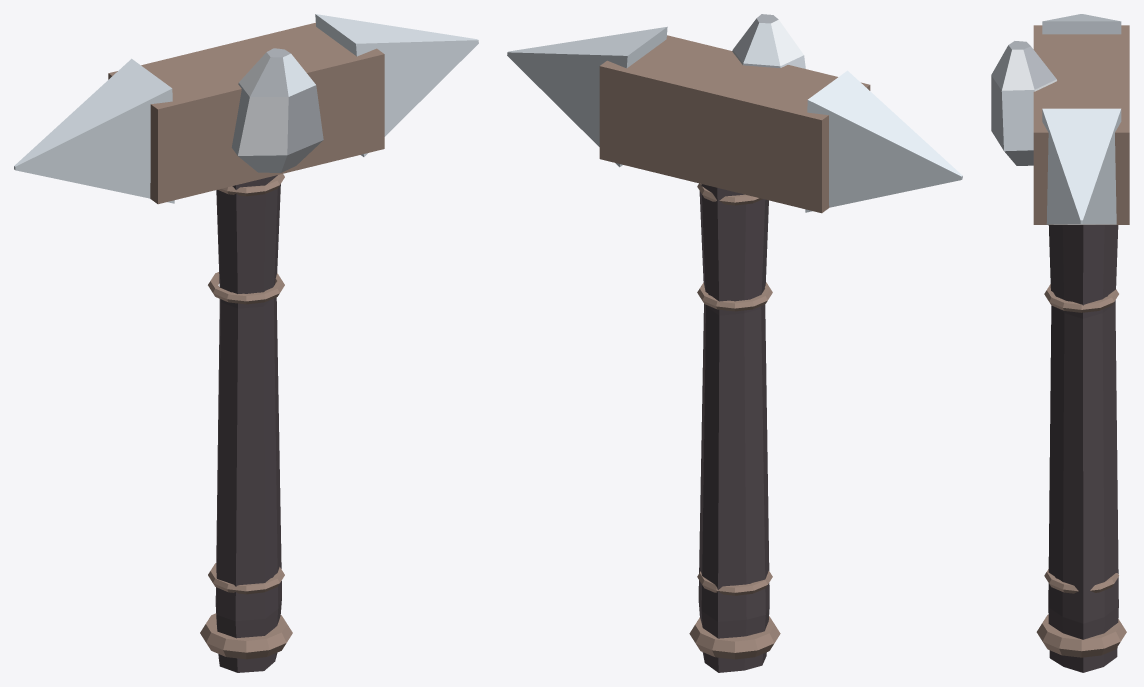
The model's file is BH_PICK_P14_Picareta_de_Quartzo_Celestial_V01.glb.
3 views of the same model, side by side, from view 1: azimuth 30°, elevation 25°; view 2: azimuth 150°, elevation 25°; view 3: azimuth 270°, elevation 25° (orthographic). The views are drawn at different scales.
Parts seen in each view (by area): view 1: Handle | shaped shaft.001, Head | main crossbar.001, Head | mining tooth L.001, Head | inset mineral.001, Head | mining tooth R.001, Handle | pommel.001, Handle | binding 3.001, Handle | binding 1.001; view 2: Head | main crossbar.001, Handle | shaped shaft.001, Head | mining tooth L.001, Head | mining tooth R.001, Head | inset mineral.001, Handle | pommel.001, Handle | binding 3.001, Handle | binding 1.001; view 3: Handle | shaped shaft.001, Head | main crossbar.001, Head | mining tooth R.001, Head | inset mineral.001, Handle | pommel.001, Head | mining tooth L.001, Handle | binding 3.001, Handle | binding 1.001.
Part boxes in pixels (x1=…): Handle | shaped shaft.001: x1=215, y1=175, x2=281, y2=672; Head | main crossbar.001: x1=108, y1=22, x2=384, y2=204; Head | mining tooth L.001: x1=14, y1=58, x2=174, y2=203; Head | inset mineral.001: x1=231, y1=48, x2=323, y2=172; Head | mining tooth R.001: x1=315, y1=14, x2=478, y2=156; Handle | pommel.001: x1=200, y1=613, x2=292, y2=659; Handle | binding 3.001: x1=208, y1=272, x2=284, y2=304; Handle | binding 1.001: x1=208, y1=563, x2=284, y2=594; Head | main crossbar.001: x1=599, y1=35, x2=870, y2=213; Handle | shaped shaft.001: x1=698, y1=184, x2=769, y2=672; Head | mining tooth L.001: x1=805, y1=70, x2=962, y2=212; Head | mining tooth R.001: x1=507, y1=26, x2=667, y2=167; Head | inset mineral.001: x1=732, y1=14, x2=805, y2=68; Handle | pommel.001: x1=689, y1=616, x2=780, y2=659; Handle | binding 3.001: x1=697, y1=282, x2=772, y2=311; Handle | binding 1.001: x1=697, y1=571, x2=772, y2=595; Handle | shaped shaft.001: x1=1048, y1=225, x2=1118, y2=672; Head | main crossbar.001: x1=1033, y1=25, x2=1129, y2=224; Head | mining tooth R.001: x1=1042, y1=108, x2=1121, y2=224; Head | inset mineral.001: x1=991, y1=41, x2=1056, y2=165; Handle | pommel.001: x1=1036, y1=614, x2=1126, y2=657; Head | mining tooth L.001: x1=1042, y1=14, x2=1121, y2=34; Handle | binding 3.001: x1=1044, y1=284, x2=1118, y2=312; Handle | binding 1.001: x1=1044, y1=569, x2=1118, y2=593.
Size of the model in its own units: 1.84 by 2.39 by 0.4904.
